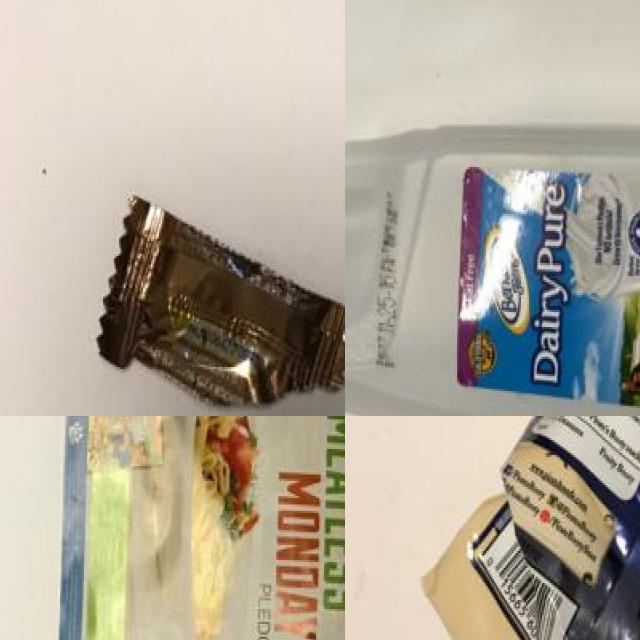paper: (64, 416, 345, 640)
plastic: (345, 131, 640, 416)
trash: (89, 166, 345, 416), (438, 416, 640, 640)
